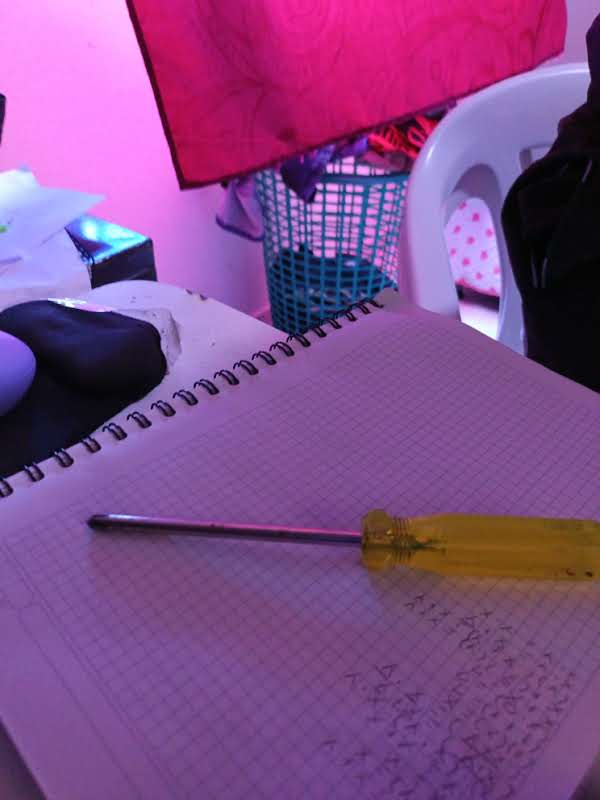Destornillador: (88, 510, 599, 581)
